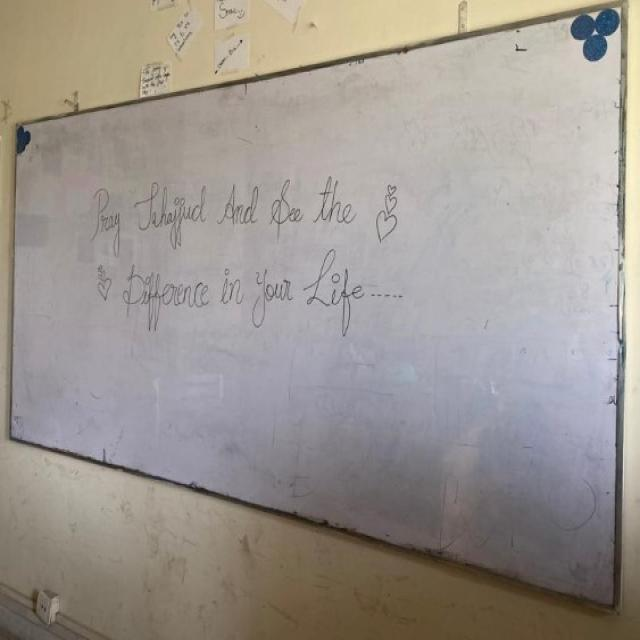White-board: (8, 8, 618, 607)
